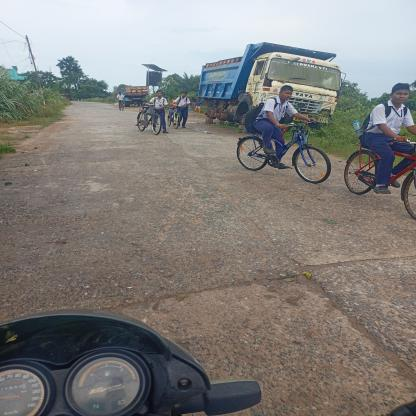bicycle: (216, 111, 335, 200), (344, 126, 416, 232), (129, 103, 174, 142), (165, 104, 194, 129)
